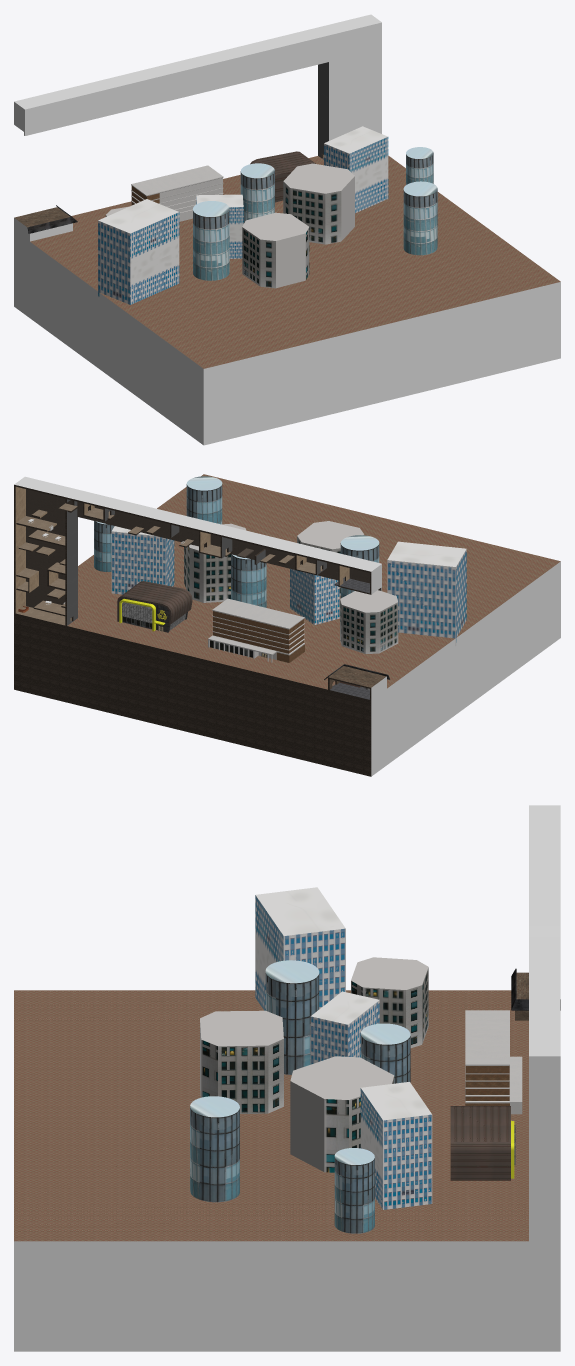
File: ground_one.glb
3 renders of one model, top to bottom at view 1: azimuth 30°, elevation 25°; view 2: azimuth 150°, elevation 25°; view 3: azimuth 270°, elevation 25°, orthographic. The views are drawn at different scales.
Parts seen in each view (by area): view 1: GroundOneLayout, BackgroundBuilding.006, BackgroundBuilding.004, BackgroundBuilding.007, BackgroundBuilding.002, BackgroundBuilding.005, ArchiveBuilding, BackgroundBuilding.008, BackgroundBuilding.001, BackgroundBuilding.003, ElevatorBuilding, Laboratory (+1 smaller); view 2: GroundOneLayout, BackgroundBuilding.006, ArchiveBuilding, BackgroundBuilding.002, BackgroundBuilding, BackgroundBuilding.004, BackgroundBuilding.003, Laboratory, BackgroundBuilding.001, BackgroundBuilding.008, BackgroundBuilding.007, ElevatorBuilding (+3 smaller); view 3: GroundOneLayout, BackgroundBuilding.007, BackgroundBuilding.002, BackgroundBuilding.004, BackgroundBuilding.006, BackgroundBuilding.008, ArchiveBuilding, BackgroundBuilding, Laboratory, BackgroundBuilding.005, BackgroundBuilding.003, BackgroundBuilding.009 (+1 smaller).
Boxes of the visible parts, left/top/right/bottom form: GroundOneLayout: left=14, top=14, right=560, bottom=445; BackgroundBuilding.006: left=98, top=199, right=179, bottom=304; BackgroundBuilding.004: left=283, top=163, right=354, bottom=244; BackgroundBuilding.007: left=242, top=212, right=309, bottom=288; BackgroundBuilding.002: left=324, top=126, right=388, bottom=213; BackgroundBuilding.005: left=193, top=201, right=229, bottom=280; ArchiveBuilding: left=131, top=165, right=223, bottom=221; BackgroundBuilding.008: left=403, top=181, right=437, bottom=255; BackgroundBuilding.001: left=240, top=163, right=274, bottom=223; BackgroundBuilding.003: left=196, top=194, right=243, bottom=258; ElevatorBuilding: left=14, top=207, right=72, bottom=241; Laboratory: left=250, top=151, right=315, bottom=202; GroundOneLayout: left=14, top=474, right=560, bottom=776; BackgroundBuilding.006: left=387, top=541, right=466, bottom=645; ArchiveBuilding: left=208, top=598, right=304, bottom=662; BackgroundBuilding.002: left=111, top=526, right=174, bottom=594; BackgroundBuilding: left=340, top=590, right=398, bottom=653; BackgroundBuilding.004: left=184, top=523, right=246, bottom=602; BackgroundBuilding.003: left=290, top=568, right=339, bottom=624; Laboratory: left=117, top=581, right=192, bottom=632; BackgroundBuilding.001: left=231, top=554, right=266, bottom=607; BackgroundBuilding.008: left=186, top=476, right=222, bottom=524; BackgroundBuilding.007: left=297, top=521, right=364, bottom=595; ElevatorBuilding: left=328, top=666, right=386, bottom=699; GroundOneLayout: left=14, top=805, right=560, bottom=1351; BackgroundBuilding.007: left=200, top=1010, right=283, bottom=1113; BackgroundBuilding.002: left=360, top=1082, right=432, bottom=1209; BackgroundBuilding.004: left=290, top=1056, right=394, bottom=1172; BackgroundBuilding.006: left=255, top=887, right=345, bottom=1010; BackgroundBuilding.008: left=190, top=1096, right=239, bottom=1202; ArchiveBuilding: left=465, top=1010, right=522, bottom=1114; BackgroundBuilding: left=351, top=957, right=428, bottom=1047; Laboratory: left=450, top=1106, right=510, bottom=1180; BackgroundBuilding.005: left=265, top=960, right=319, bottom=1074; BackgroundBuilding.003: left=310, top=991, right=379, bottom=1064; BackgroundBuilding.009: left=334, top=1148, right=374, bottom=1233.
Size of the model in its own units: 70.42 by 38.42 by 64.5.
35 materials, 28 textured.
